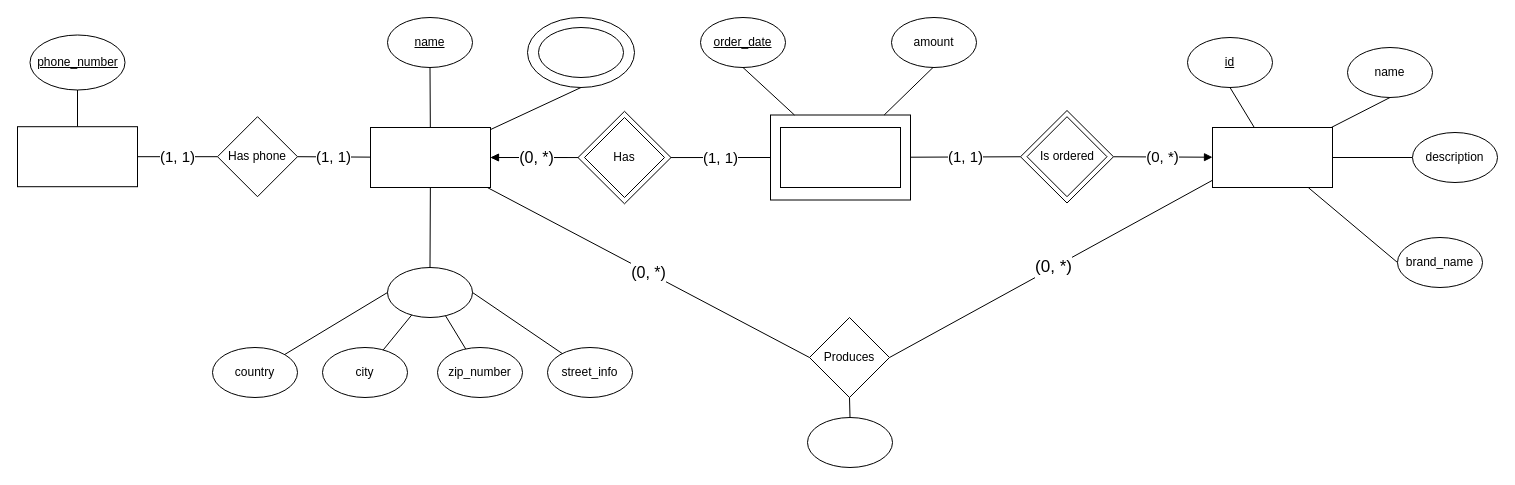
Some shapes in this 1515 by 485 pixel diagram are drawn without their labels. Here are the shapes that lost their labels. From the top down, the centre of each, then its label:
At [581,52]: "email".
At [77,156]: "PhoneNumber".
At [430,157]: "Company".
At [840,157]: "Transaction".
At [1272,157]: "Product".
At [429,292]: "address".
At [849,442]: "capacity".
